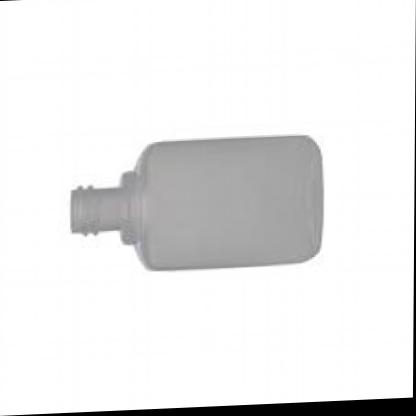trash: (71, 136, 322, 269)
